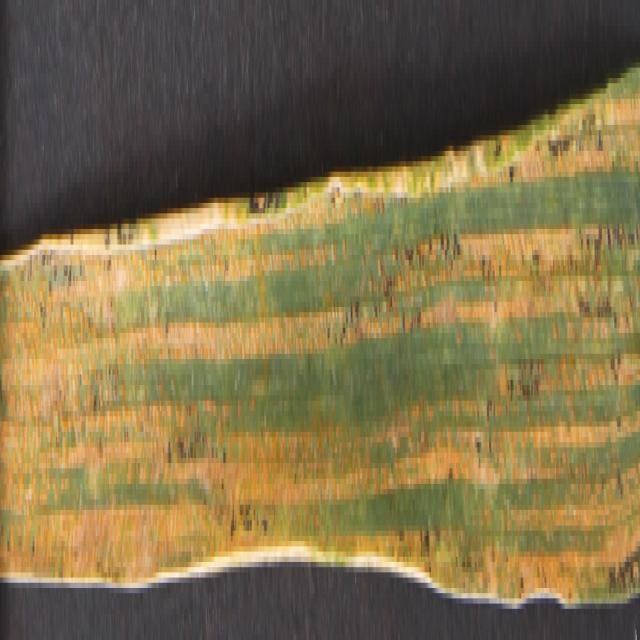leaf rust: (1, 62, 638, 583)
